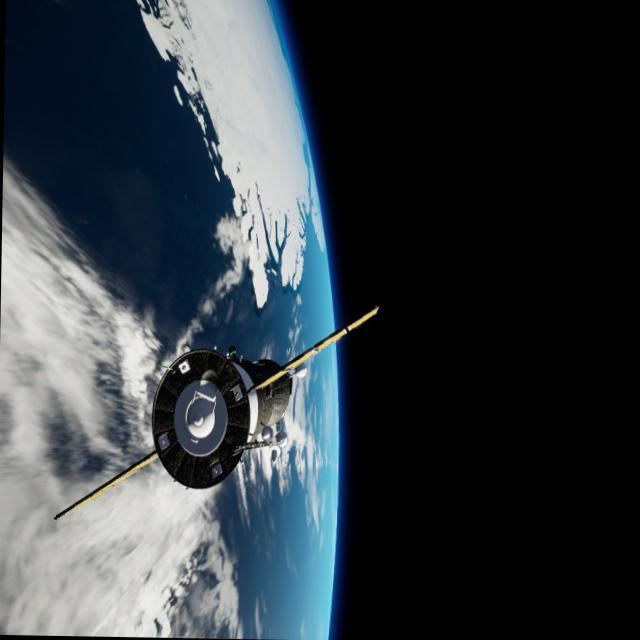Satellites revolving around earth: (0, 0, 350, 638)
